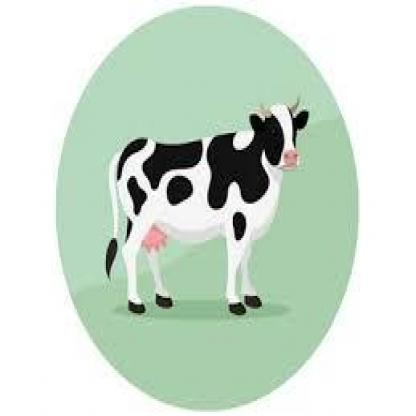cow: (104, 93, 310, 318)
